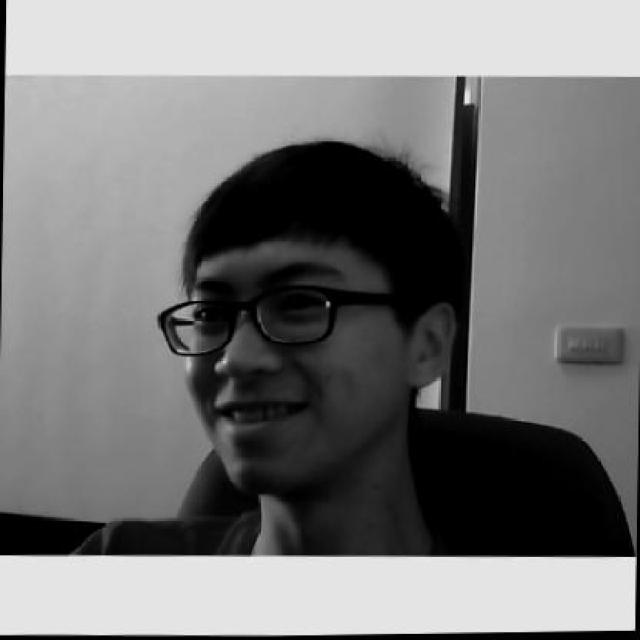attentif: (154, 138, 458, 498)
